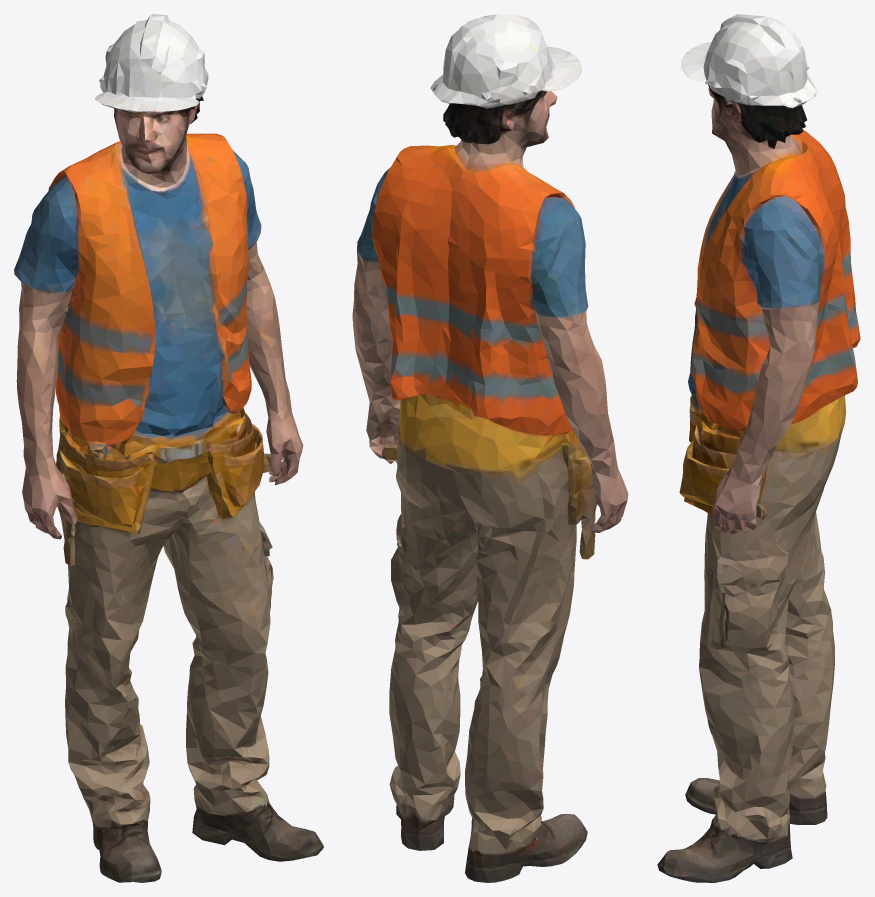
File: trab2.glb
3 renders of one model, left to right at view 1: azimuth 30°, elevation 25°; view 2: azimuth 150°, elevation 25°; view 3: azimuth 270°, elevation 25°, orthographic. The views are drawn at different scales.
Parts seen in each view (by area): view 1: m.obj; view 2: m.obj; view 3: m.obj.
Part boxes in pixels (x1,y1,x2,y2): m.obj: (14,14,323,882); m.obj: (352,14,628,882); m.obj: (657,14,860,882).
Size of the model in its own units: 0.6189 by 1.9 by 0.4322.
1 material, 1 textured.
